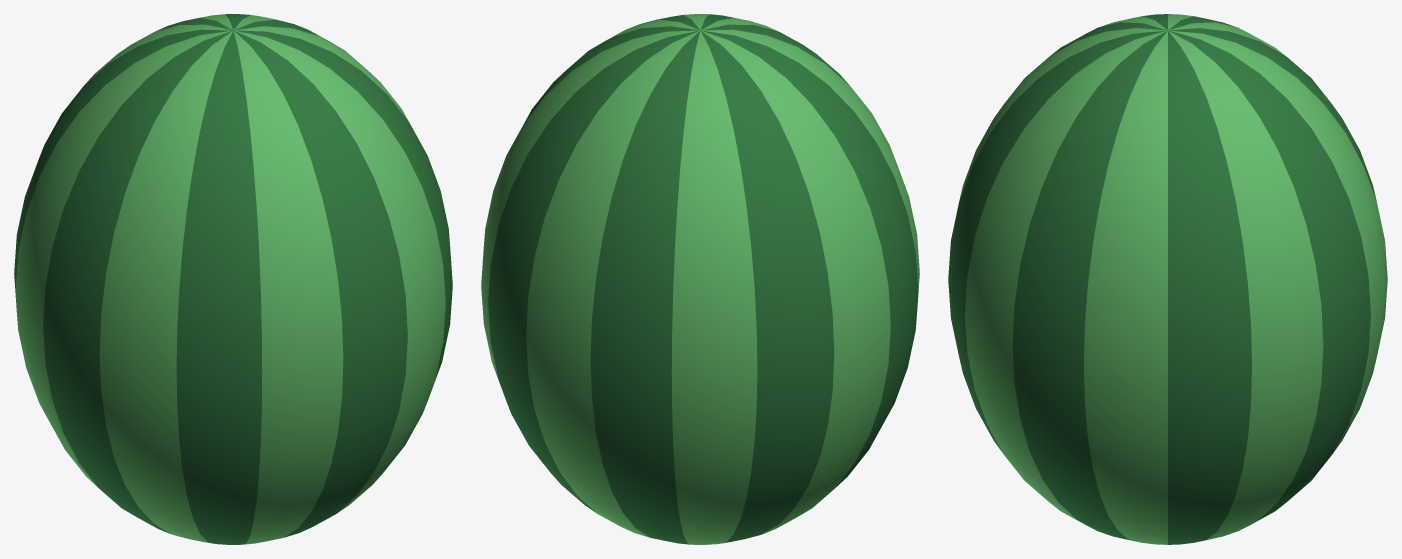
File: Watermelon_Whole.fbx
3 views of the same model, side by side, from view 1: azimuth 30°, elevation 25°; view 2: azimuth 150°, elevation 25°; view 3: azimuth 270°, elevation 25° (orthographic).
Parts seen in each view (by area): view 1: Watermelon_Whole; view 2: Watermelon_Whole; view 3: Watermelon_Whole.
Boxes of the visible parts, x1,y1,x2,y2 form: Watermelon_Whole: (14, 14, 452, 544); Watermelon_Whole: (481, 14, 919, 544); Watermelon_Whole: (948, 14, 1387, 544).
Size of the model in its own units: 1.04 by 1.3 by 1.04.
